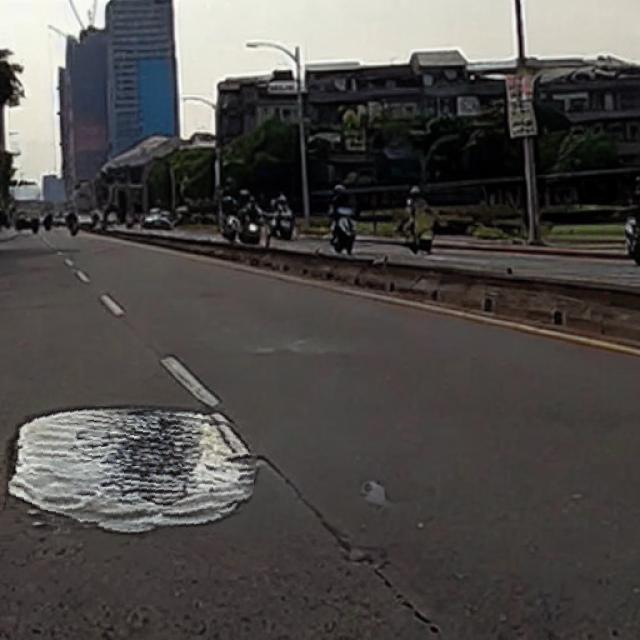puddle: (8, 404, 258, 541)
